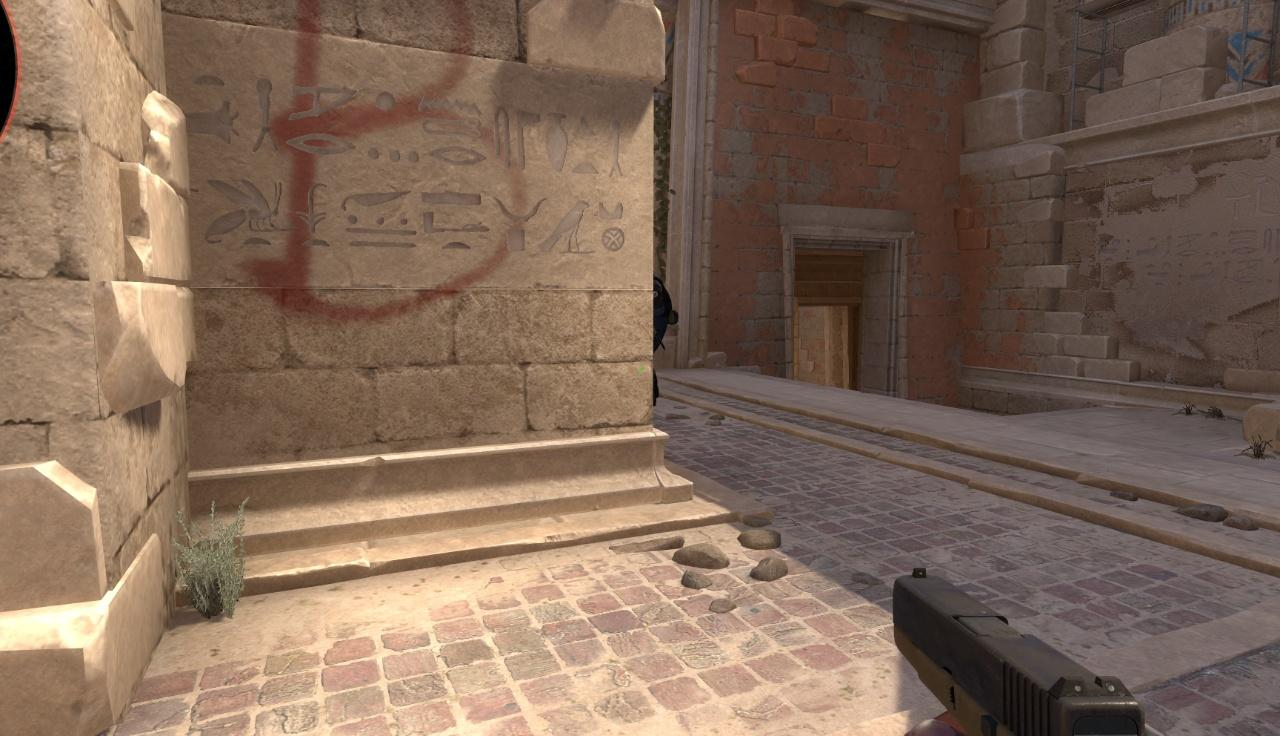ct: (653, 274, 673, 404)
pistol: (888, 561, 1149, 730)
